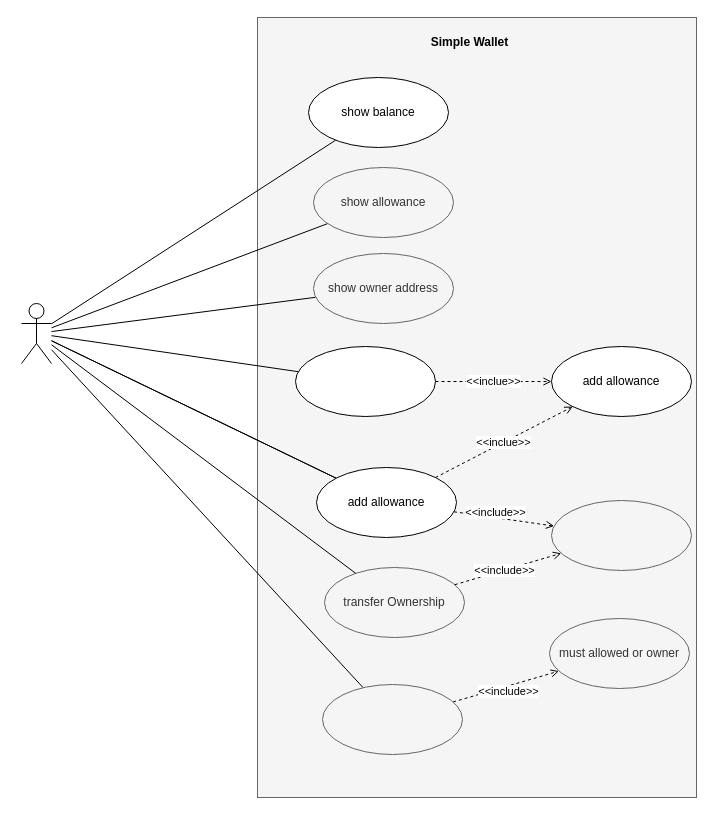
Some shapes in this 714 by 815 pixel diagram are drawn without their labels. Each missing label, with the box of its shape:
is owner: (550, 500, 692, 570)
send money to smart contract: (294, 346, 436, 416)
Sender: (20, 302, 52, 364)
withdraw money: (322, 684, 462, 754)
